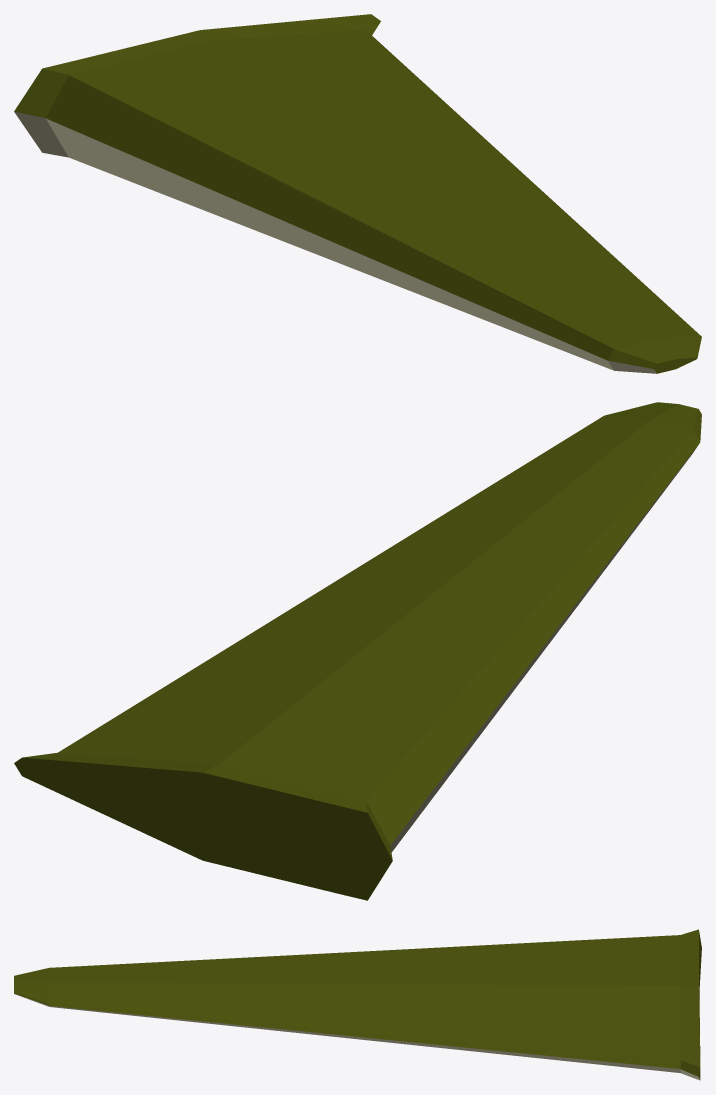
File: B17_left_wing.glb
3 views of the same model, one above another, from view 1: azimuth 30°, elevation 25°; view 2: azimuth 150°, elevation 25°; view 3: azimuth 270°, elevation 25° (orthographic). The views are drawn at different scales.
Visible parts, largest first — view 1: main_plane.001; view 2: main_plane.001; view 3: main_plane.001.
Part boxes in pixels (<box>): main_plane.001: <box>14,14,701,373</box>; main_plane.001: <box>14,402,701,900</box>; main_plane.001: <box>14,929,701,1080</box>.
Bounding box in the file's own units: 3.81 × 0.9532 × 8.46.
